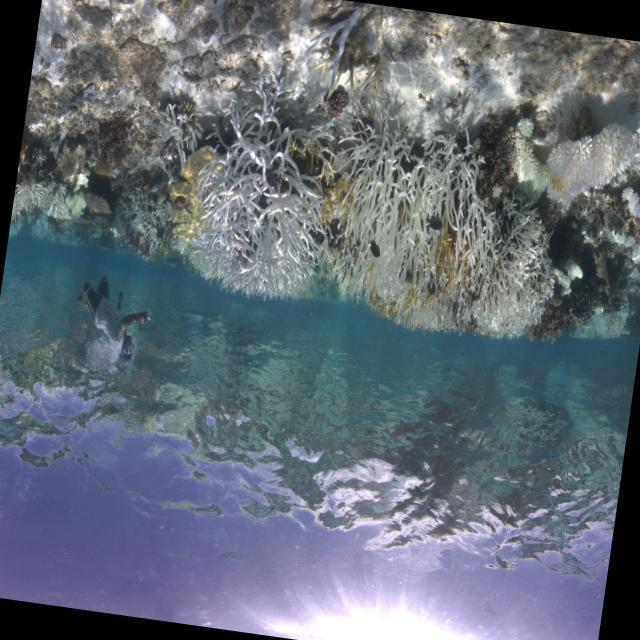Bleached Coral: (333, 120, 573, 350), (185, 74, 334, 322), (545, 105, 640, 224), (10, 163, 91, 239), (309, 2, 362, 83), (119, 190, 170, 246), (154, 109, 187, 164), (606, 228, 637, 254), (624, 184, 640, 220), (628, 229, 640, 268)
Dead Coral: (354, 6, 398, 78)
